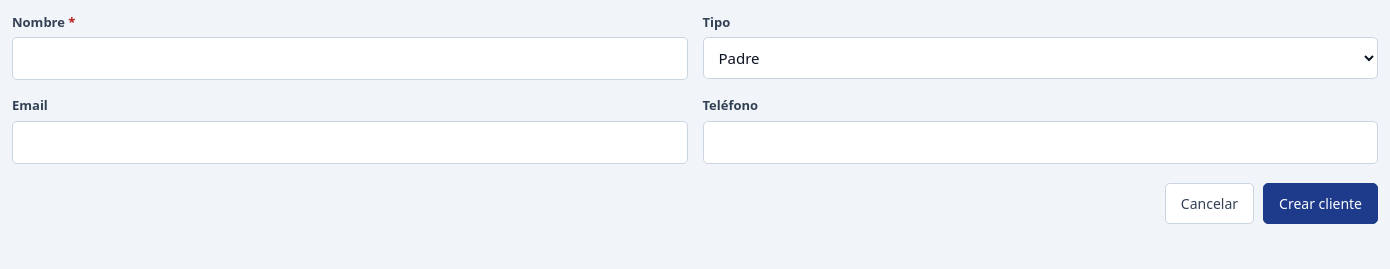
Test: Formulario · campos clave › valida el formato de email antes de enviar
Type "Cliente" into the field labelled "Nombre *". click: {"x": 350, "y": 59}
box: [12,37,688,80]
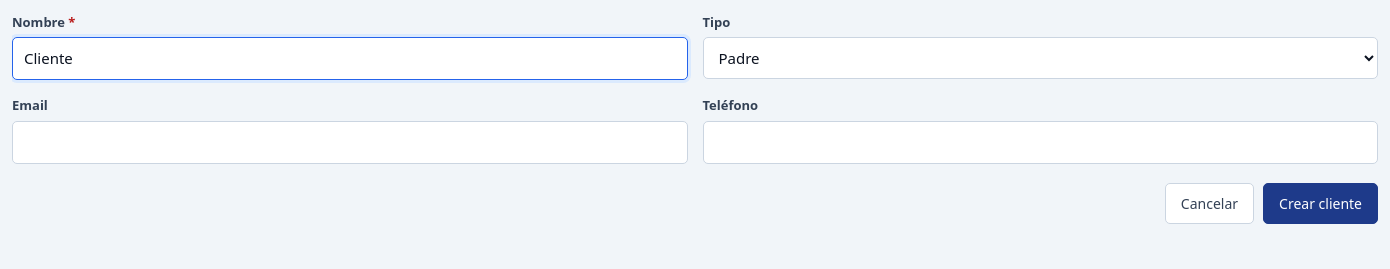
Type "no-es-email" into the field labelled "Email". click: {"x": 350, "y": 142}
box: [12,120,688,164]
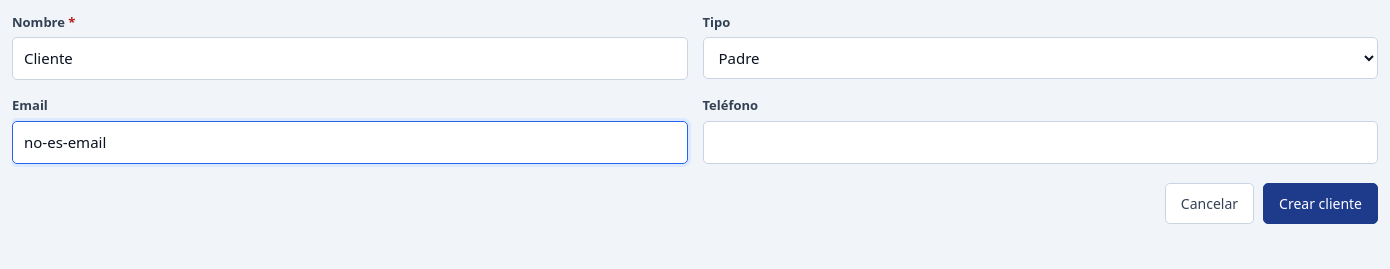
Click the button "Crear cliente". click: {"x": 1320, "y": 204}
box: [1263,183,1378,224]
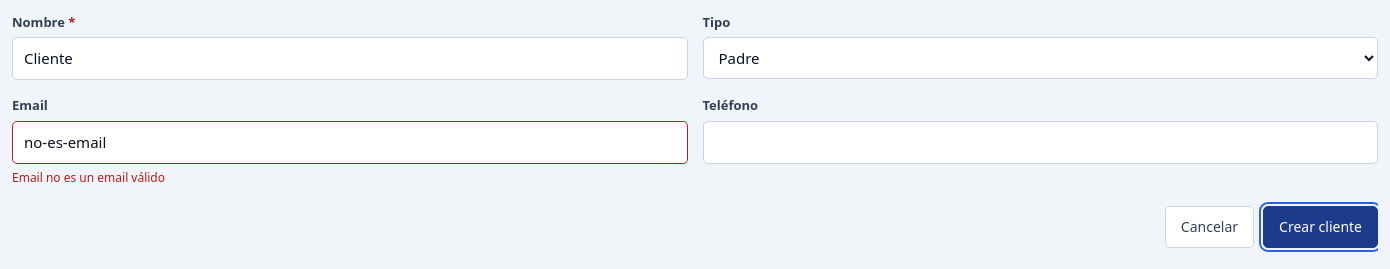
Expected: the text "Email no es un email válido" is shown, [12,169,165,186]
